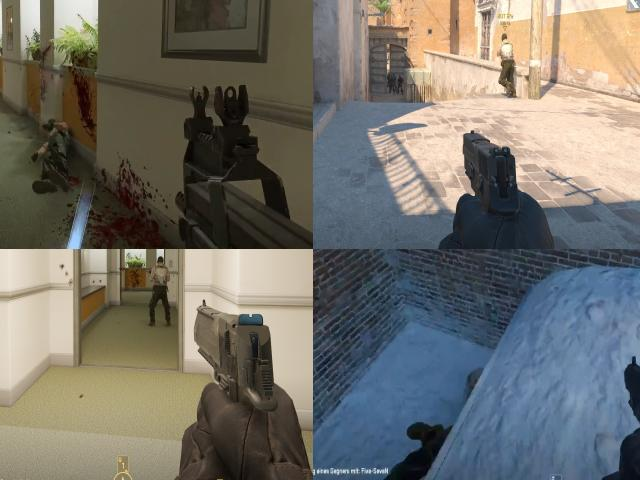CT: (386, 72, 391, 91), (390, 73, 394, 94), (398, 74, 402, 94), (393, 73, 397, 92)
CT-Head: (399, 74, 401, 77), (393, 73, 395, 76), (391, 74, 393, 76), (388, 73, 390, 75)
Dead: (372, 416, 457, 480), (21, 113, 82, 195)
T: (150, 257, 172, 320), (499, 35, 515, 98)
T-Head: (501, 33, 509, 44), (157, 256, 164, 266)
